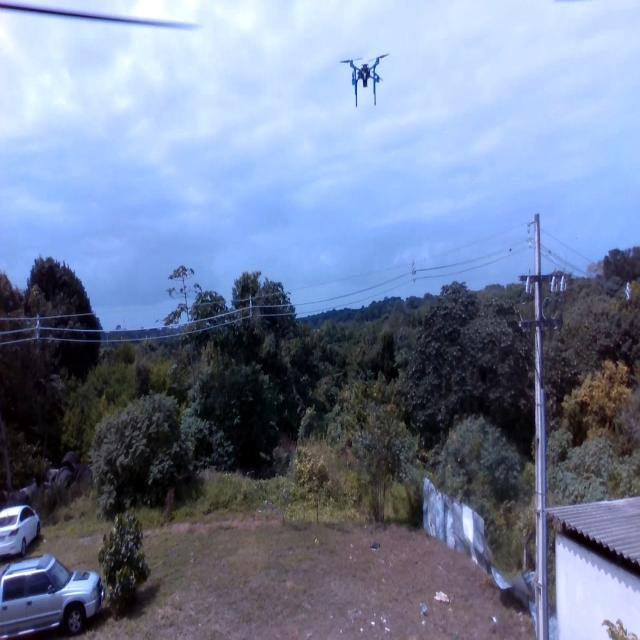-uav-: (333, 42, 402, 117)
